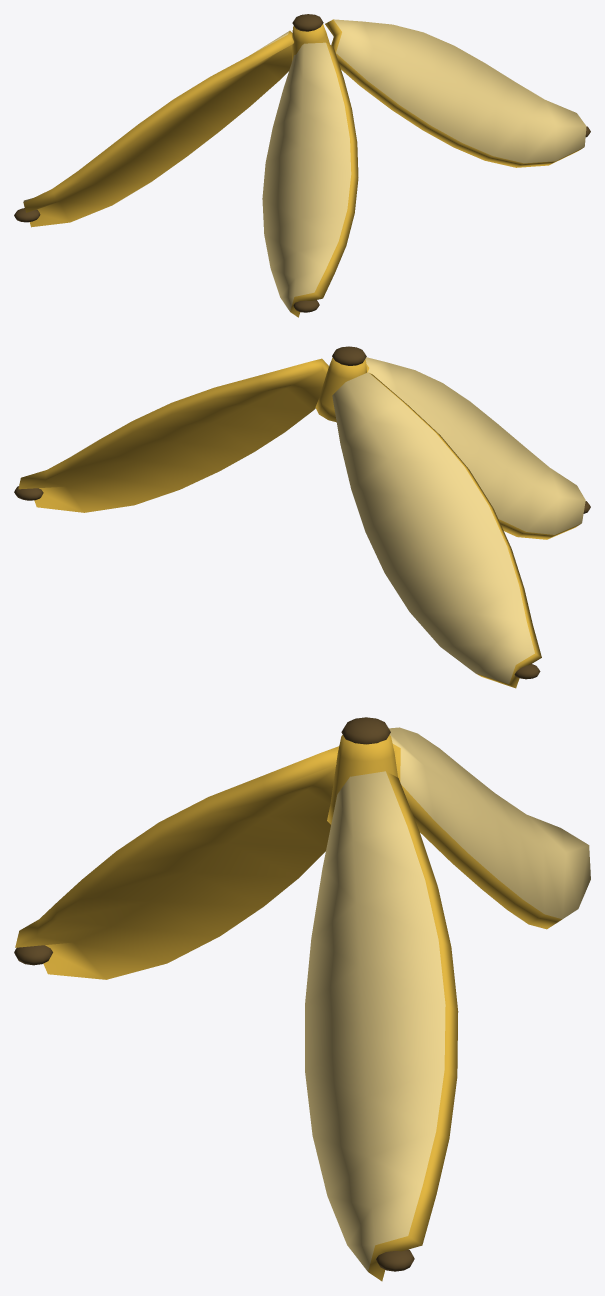
File: banana_peel.glb
3 renders of one model, top to bottom at view 1: azimuth 30°, elevation 25°; view 2: azimuth 150°, elevation 25°; view 3: azimuth 270°, elevation 25°, orthographic. The views are drawn at different scales.
Visible parts, largest first — view 1: PropGeometryGeometry; view 2: PropGeometryGeometry; view 3: PropGeometryGeometry.
Boxes of the visible parts, x1,y1,x2,y2 form: PropGeometryGeometry: (14,14,590,317); PropGeometryGeometry: (14,346,590,688); PropGeometryGeometry: (14,717,590,1281).
Size of the model in its own units: 2.28 by 0.8617 by 1.32.
